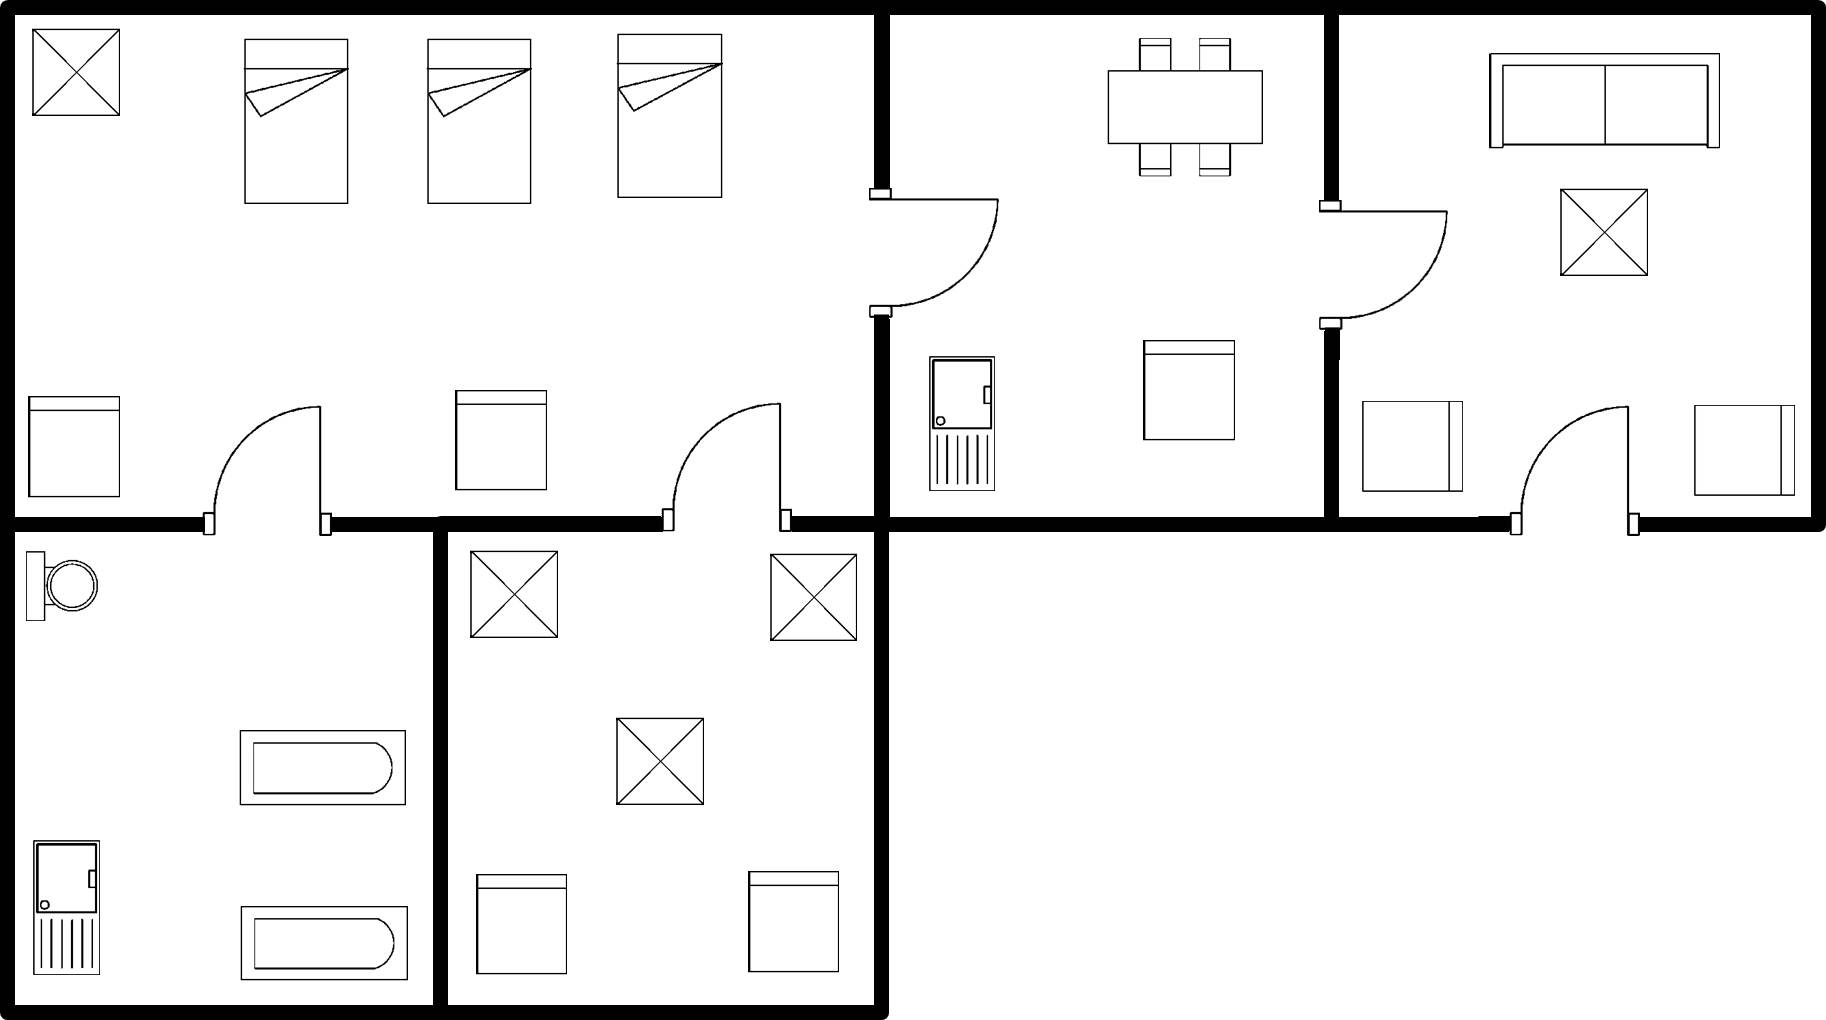bed: (608, 23, 733, 212), (235, 30, 359, 218), (416, 27, 538, 217)
coffee_table: (1548, 178, 1659, 287), (463, 540, 569, 649), (607, 708, 714, 813), (760, 545, 864, 651), (26, 22, 127, 133)
dining_table: (1094, 29, 1273, 191)
large_sink: (20, 539, 104, 636)
large_sofa: (1481, 42, 1730, 161)
sink: (26, 827, 111, 982), (922, 348, 1000, 501)
small_sofa: (1133, 330, 1251, 456), (446, 377, 561, 503), (1679, 395, 1805, 505), (1353, 394, 1474, 508), (468, 864, 577, 990), (739, 861, 847, 982), (20, 387, 129, 505)
tub: (227, 718, 414, 817), (231, 897, 416, 987)
